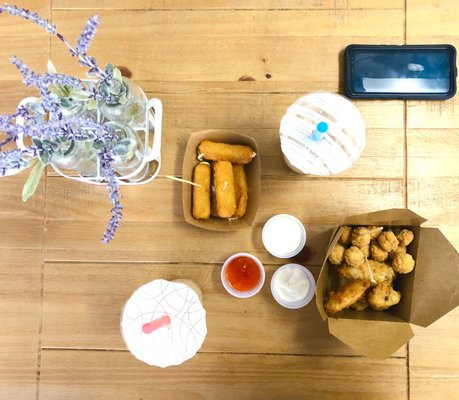sushi: (220, 253, 266, 299), (270, 263, 316, 309)
